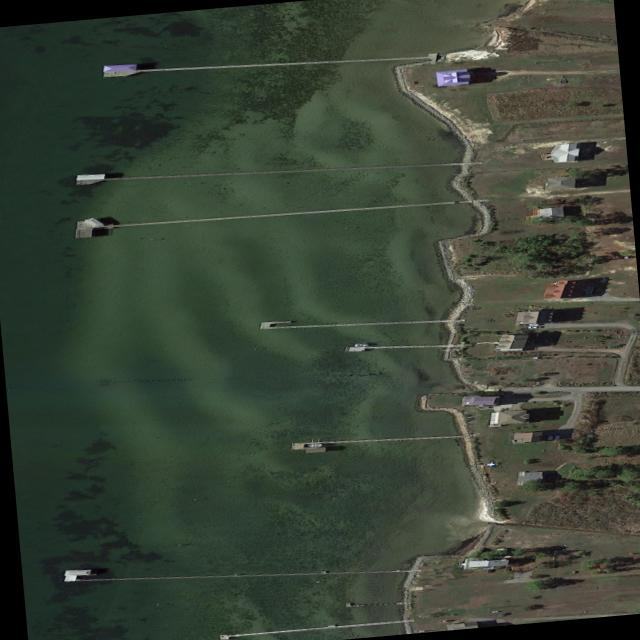ship: (306, 444, 321, 447), (351, 344, 367, 346)
small-vehicle: (524, 326, 542, 329), (484, 462, 497, 466), (525, 323, 539, 326), (553, 434, 559, 439)
